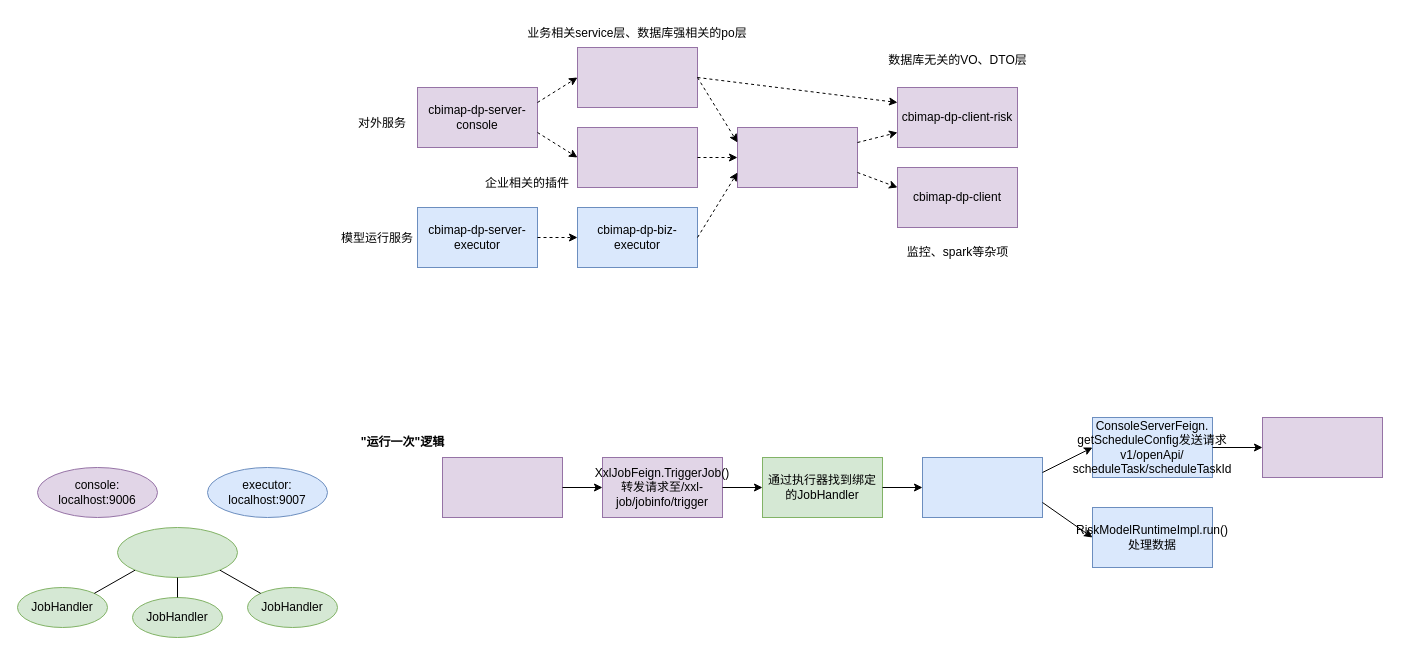
This 1410x655 diagram has some shape labels left out. Here are the shapes that lost their labels. From the top down, the box of each, then its label:
(576, 46, 698, 108): cbimap-dp-biz-console
(576, 126, 698, 188): cbimap-dp-plugin-wgq
(736, 126, 858, 188): cbimap-dp-core
(1262, 416, 1382, 478): ScheduleTaskServiceImpl. getByScheduleTaskId获取模型配置项
(442, 456, 562, 518): 接收请求runTaskOnce/{id}， 至ScheduleTaskServiceImpl. runTaskOnce()
(922, 456, 1042, 518): 触发RiskModelV1JobHandler. execute()
(116, 526, 238, 578): xxl-job : localhost:8082
